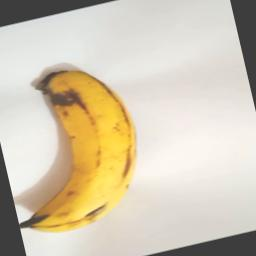Banana Unripe: (0, 52, 157, 243)
